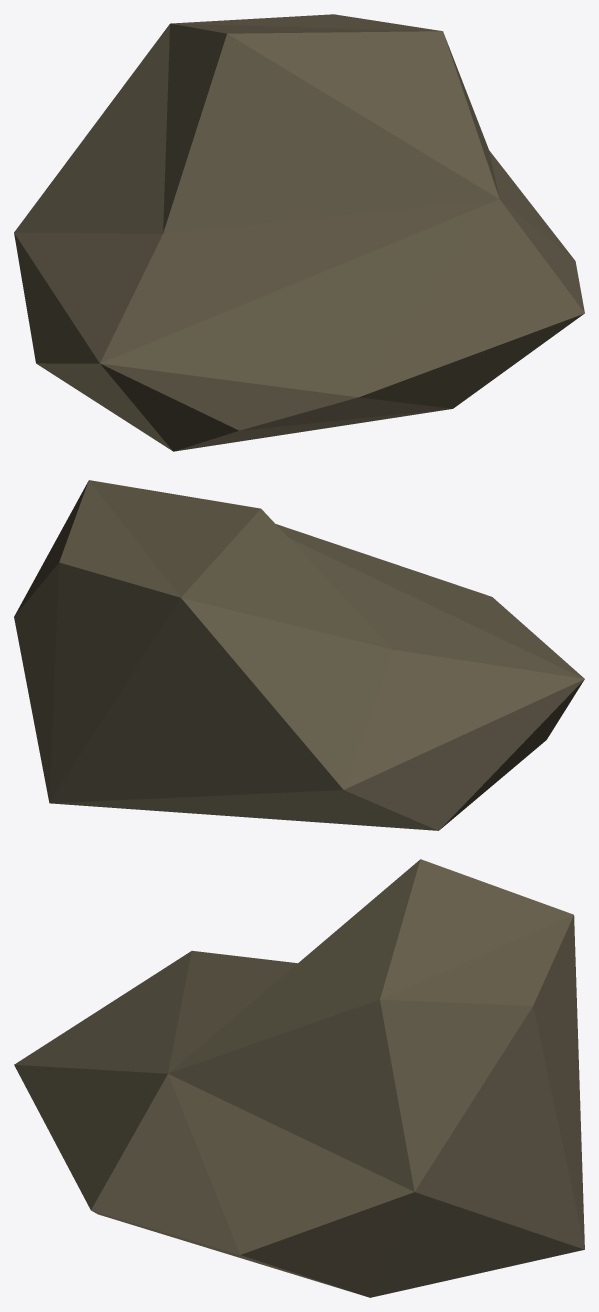
File: Boulder-C05.fbx
The picture shows the model from 3 angles, top to bottom: view 1: azimuth 30°, elevation 25°; view 2: azimuth 150°, elevation 25°; view 3: azimuth 270°, elevation 25°; orthographic projection. The views are drawn at different scales.
Parts seen in each view (by area): view 1: Boulder-C05; view 2: Boulder-C05; view 3: Boulder-C05.
Boxes of the visible parts, x1=… form: Boulder-C05: x1=14, y1=14, x2=584, y2=451; Boulder-C05: x1=14, y1=480, x2=584, y2=830; Boulder-C05: x1=14, y1=859, x2=584, y2=1297.
Bounding box in the file's own units: 160 × 87.96 × 145.
